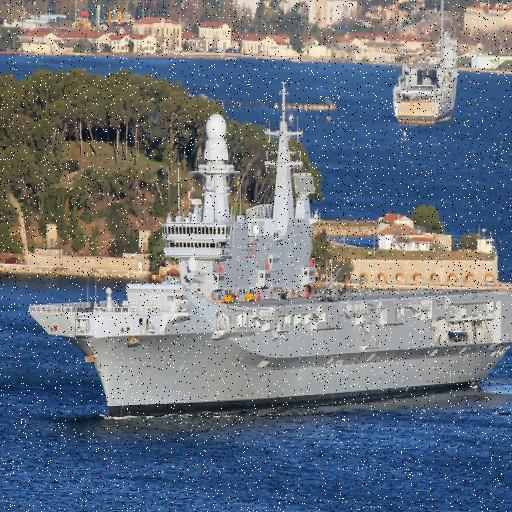Portanaves: (25, 67, 512, 430)
